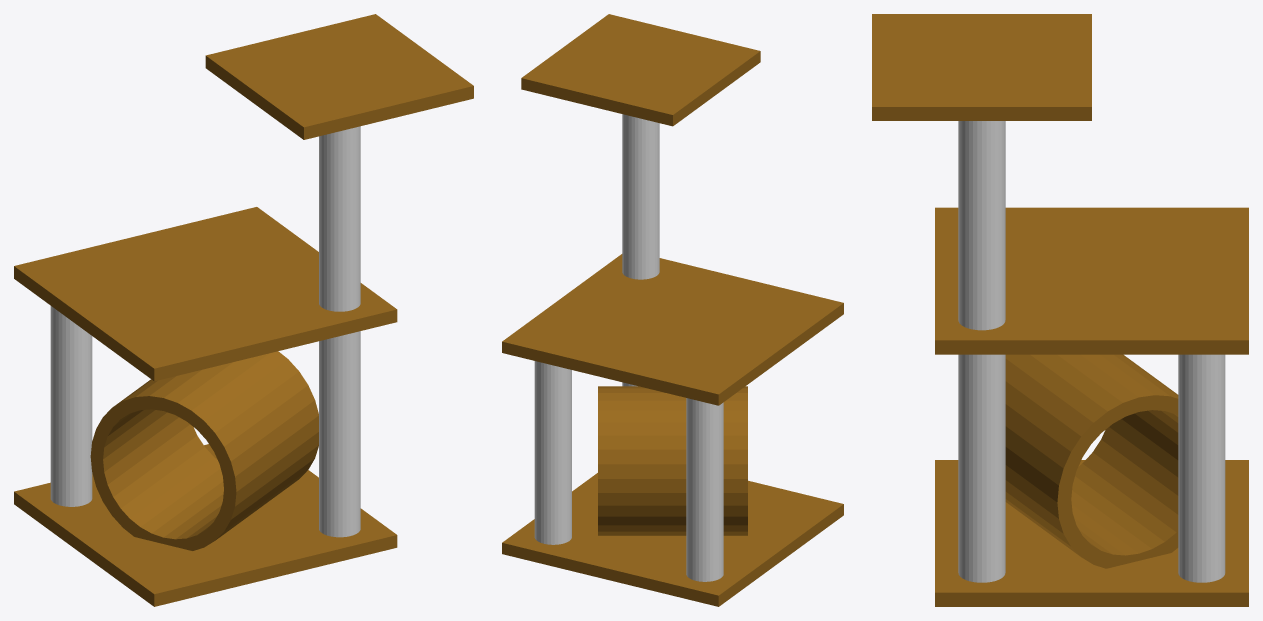
File: cat tower4.fbx
3 views of the same model, side by side, from view 1: azimuth 30°, elevation 25°; view 2: azimuth 150°, elevation 25°; view 3: azimuth 270°, elevation 25° (orthographic). The views are drawn at different scales.
Visible parts, largest first — view 1: 平面.001, 円柱.003, 平面, 平面.002, 円柱, 円柱.002; view 2: 平面.001, 平面, 円柱.003, 平面.002, 円柱.002, 円柱.001, 円柱; view 3: 平面.001, 円柱.003, 平面.002, 円柱, 平面, 円柱.001.
Boxes of the visible parts, box(x1,y1,x2,y2) form: 平面.001: box(14, 207, 397, 381); 円柱.003: box(90, 351, 318, 550); 平面: box(14, 444, 397, 606); 平面.002: box(205, 14, 473, 139); 円柱: box(319, 126, 360, 537); 円柱.002: box(50, 306, 92, 506); 平面.001: box(502, 254, 843, 405); 平面: box(502, 473, 843, 606); 円柱.003: box(598, 386, 747, 535); 平面.002: box(521, 14, 760, 126); 円柱.002: box(686, 398, 723, 581); 円柱.001: box(534, 361, 571, 544); 円柱: box(622, 114, 659, 386); 平面.001: box(935, 207, 1248, 354); 円柱.003: box(1005, 354, 1178, 568); 平面.002: box(872, 14, 1091, 120); 円柱: box(958, 121, 1005, 582); 平面: box(935, 460, 1248, 606); 円柱.001: box(1178, 354, 1225, 582).
Bounding box in the file's own units: 240 × 370 × 240.
